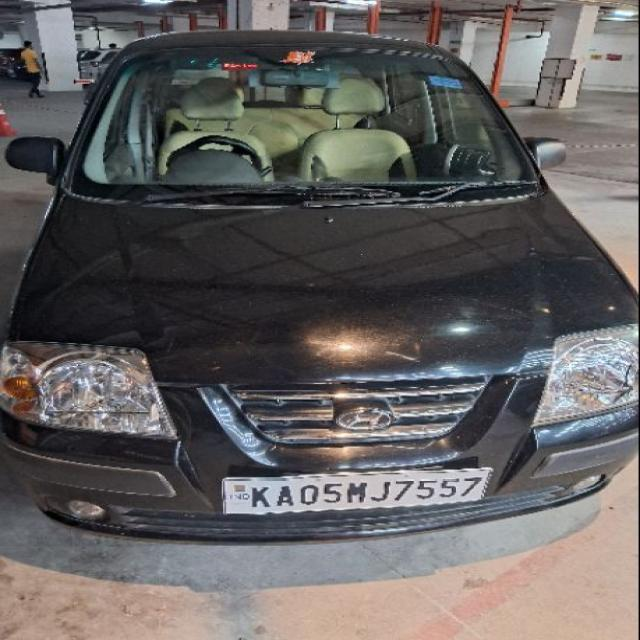license_plate: (219, 466, 492, 516)
